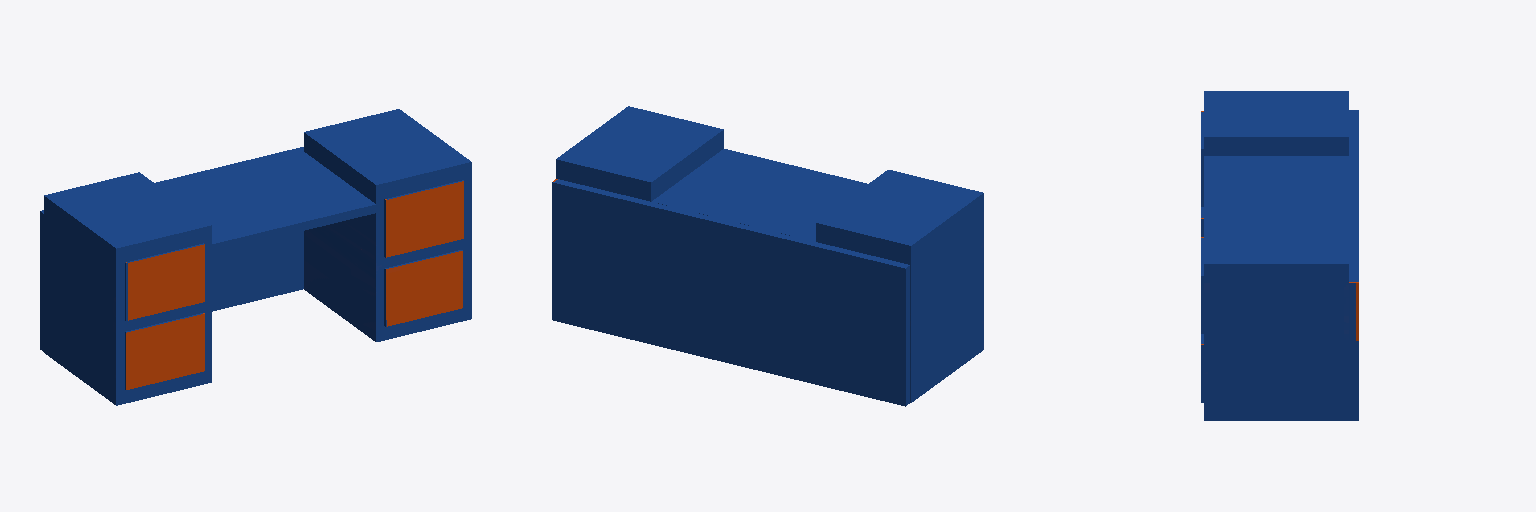
The picture shows the model from 3 angles: view 1: azimuth 30°, elevation 25°; view 2: azimuth 150°, elevation 25°; view 3: azimuth 270°, elevation 25°; orthographic projection.
Visible parts, largest first — view 1: Cube.012_Cube.026; view 2: Cube.012_Cube.026; view 3: Cube.012_Cube.026.
Boxes of the visible parts, x1=… form: Cube.012_Cube.026: x1=40, y1=109, x2=471, y2=405; Cube.012_Cube.026: x1=552, y1=106, x2=983, y2=406; Cube.012_Cube.026: x1=1201, y1=91, x2=1358, y2=420.
Bounding box in the file's own units: 22.83 × 9.65 × 8.76.
1 materials, 1 textured.